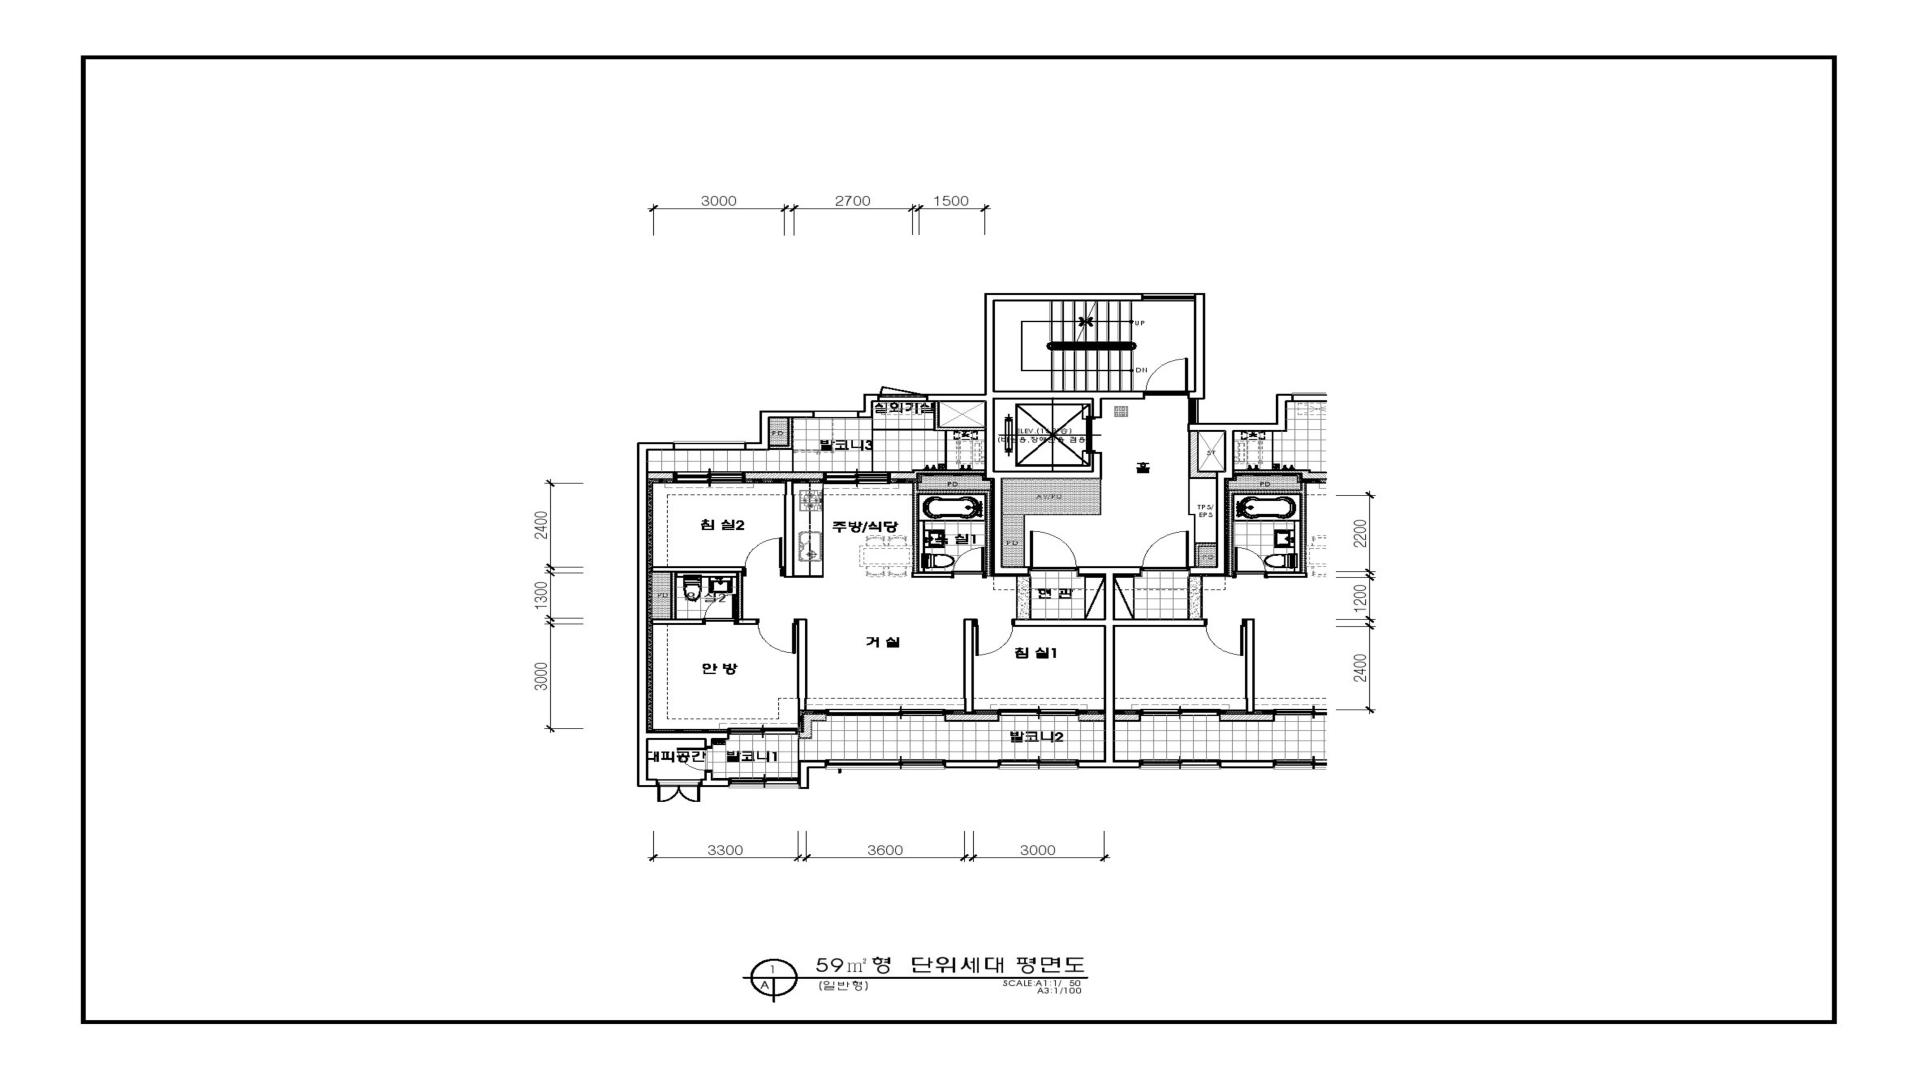door: (1030, 530, 1076, 571), (1145, 357, 1188, 396), (744, 537, 783, 576), (973, 618, 1013, 657), (758, 618, 796, 654), (703, 593, 737, 625), (951, 547, 985, 579), (676, 748, 713, 771)
wall: (926, 293, 1145, 576), (1013, 566, 1207, 769), (637, 442, 729, 787), (1187, 394, 1292, 575), (1004, 480, 1101, 566), (911, 483, 992, 578), (651, 566, 758, 625), (1188, 431, 1216, 567), (745, 410, 814, 451), (1188, 293, 1205, 400), (934, 402, 984, 431), (963, 618, 975, 712), (890, 469, 985, 480), (796, 618, 807, 709), (785, 481, 794, 578), (798, 760, 825, 789), (770, 418, 794, 450), (744, 471, 823, 480), (798, 715, 827, 738), (858, 394, 880, 418), (945, 760, 998, 769), (700, 771, 729, 787), (944, 713, 1000, 721), (649, 471, 675, 479), (1079, 713, 1104, 721)
window: (825, 760, 945, 770), (657, 779, 700, 802), (827, 708, 944, 716), (675, 471, 744, 484), (823, 471, 891, 484), (729, 777, 798, 789), (880, 385, 926, 402), (998, 760, 1079, 769), (1000, 708, 1079, 716), (674, 443, 745, 451), (1143, 293, 1195, 302), (729, 728, 798, 735), (814, 410, 858, 418), (1188, 400, 1199, 423)
